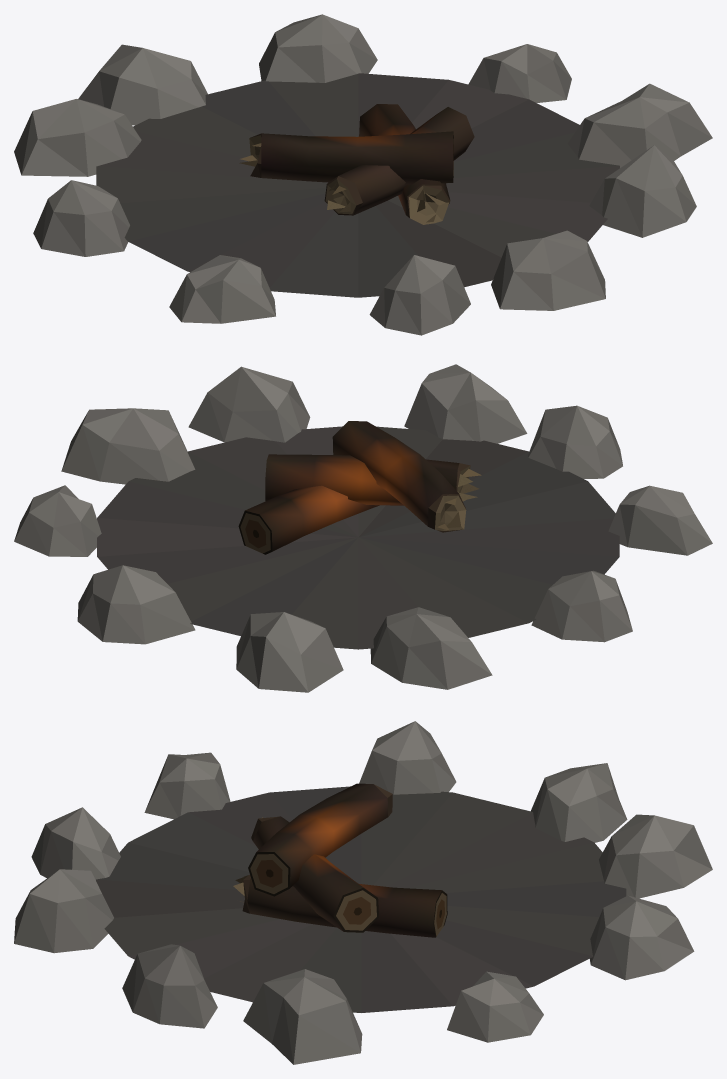
File: campfire-ring.glb
3 views of the same model, one above another, from view 1: azimuth 30°, elevation 25°; view 2: azimuth 150°, elevation 25°; view 3: azimuth 270°, elevation 25° (orthographic).
Visible parts, largest first — view 1: campfire-ring; view 2: campfire-ring; view 3: campfire-ring.
Boxes of the visible parts, x1,y1,x2,y2 form: campfire-ring: (14, 14, 712, 335); campfire-ring: (14, 364, 712, 692); campfire-ring: (14, 721, 712, 1064).
Bounding box in the file's own units: 0.9654 × 0.1184 × 0.9349.
